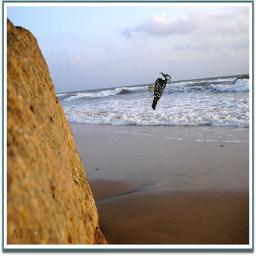Woodpecker: (148, 72, 171, 110)
